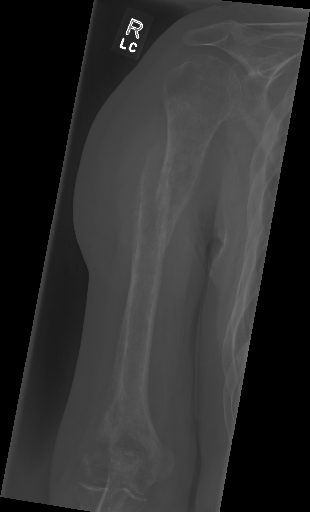fracture: (138, 118, 181, 268)
